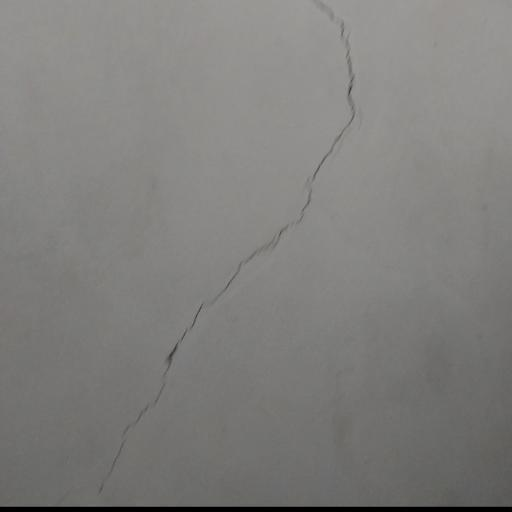minor_crack: (93, 0, 369, 498)
